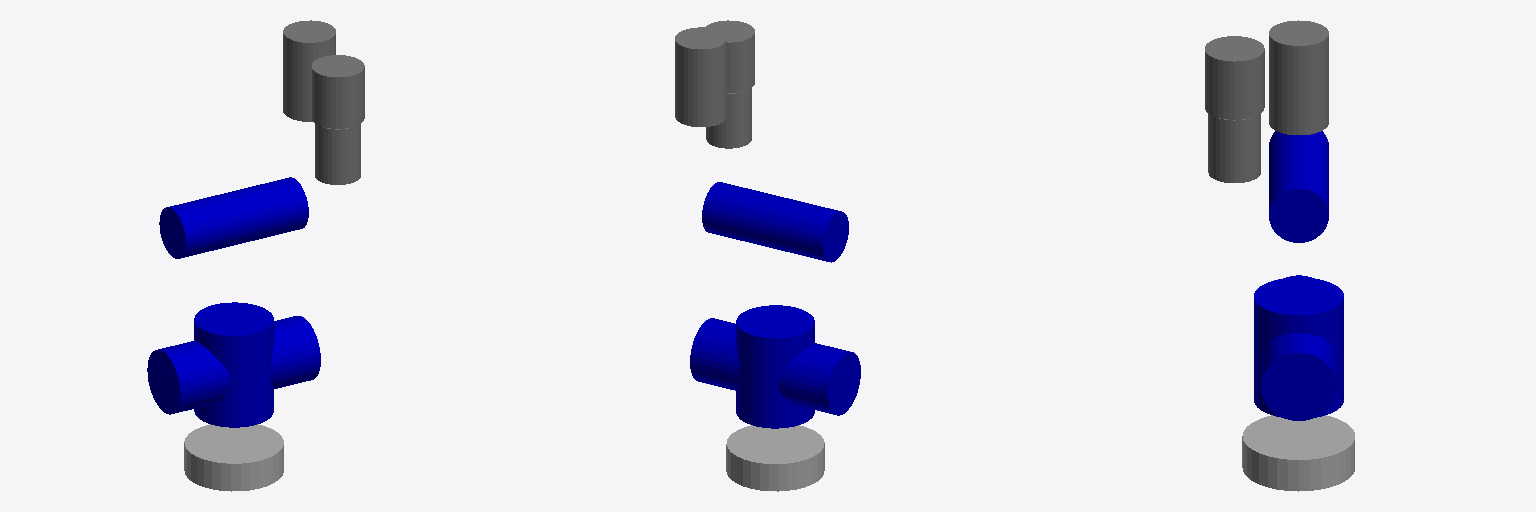
URDF robot description (ur3e):
<?xml version="1.0" ?>
<robot name="ur3e" xmlns:xacro="http://www.ros.org/wiki/xacro">
  
  <!-- Robot base link -->
  <link name="world"/>
  
  <link name="base_link">
    <visual>
      <geometry>
        <cylinder radius="0.075" length="0.046"/>
      </geometry>
      <material name="LightGrey">
        <color rgba="0.7 0.7 0.7 1.0"/>
      </material>
    </visual>
  </link>
  
  <joint name="world_joint" type="fixed">
    <parent link="world"/>
    <child link="base_link"/>
    <origin xyz="0.0 0.0 0.0" rpy="0.0 0.0 0.0"/>
  </joint>

  <!-- UR3e joints and links -->
  <link name="shoulder_link">
    <visual>
      <geometry>
        <cylinder radius="0.06" length="0.15185"/>
      </geometry>
      <material name="Blue">
        <color rgba="0.0 0.0 0.8 1.0"/>
      </material>
    </visual>
  </link>

  <joint name="shoulder_pan_joint" type="revolute">
    <parent link="base_link"/>
    <child link="shoulder_link"/>
    <origin xyz="0.0 0.0 0.15185" rpy="0.0 0.0 0.0"/>
    <axis xyz="0 0 1"/>
    <limit lower="-6.2832" upper="6.2832" effort="150.0" velocity="3.15"/>
  </joint>

  <link name="upper_arm_link">
    <visual>
      <geometry>
        <cylinder radius="0.05" length="0.24355"/>
      </geometry>
      <material name="Blue">
        <color rgba="0.0 0.0 0.8 1.0"/>
      </material>
    </visual>
  </link>

  <joint name="shoulder_lift_joint" type="revolute">
    <parent link="shoulder_link"/>
    <child link="upper_arm_link"/>
    <origin xyz="0.0 0.0 0.0" rpy="0.0 1.570796325 0.0"/>
    <axis xyz="0 1 0"/>
    <limit lower="-6.2832" upper="6.2832" effort="150.0" velocity="3.15"/>
  </joint>

  <link name="forearm_link">
    <visual>
      <geometry>
        <cylinder radius="0.04" length="0.2132"/>
      </geometry>
      <material name="Blue">
        <color rgba="0.0 0.0 0.8 1.0"/>
      </material>
    </visual>
  </link>

  <joint name="elbow_joint" type="revolute">
    <parent link="upper_arm_link"/>
    <child link="forearm_link"/>
    <origin xyz="-0.24355 0.0 0.0" rpy="0.0 0.0 0.0"/>
    <axis xyz="0 1 0"/>
    <limit lower="-3.14159265" upper="3.14159265" effort="150.0" velocity="3.15"/>
  </joint>

  <link name="wrist_1_link">
    <visual>
      <geometry>
        <cylinder radius="0.04" length="0.13105"/>
      </geometry>
      <material name="Grey">
        <color rgba="0.5 0.5 0.5 1.0"/>
      </material>
    </visual>
  </link>

  <joint name="wrist_1_joint" type="revolute">
    <parent link="forearm_link"/>
    <child link="wrist_1_link"/>
    <origin xyz="-0.2132 0.0 0.13105" rpy="0.0 1.570796325 0.0"/>
    <axis xyz="0 1 0"/>
    <limit lower="-6.2832" upper="6.2832" effort="28.0" velocity="3.2"/>
  </joint>

  <link name="wrist_2_link">
    <visual>
      <geometry>
        <cylinder radius="0.04" length="0.08535"/>
      </geometry>
      <material name="Grey">
        <color rgba="0.5 0.5 0.5 1.0"/>
      </material>
    </visual>
  </link>

  <joint name="wrist_2_joint" type="revolute">
    <parent link="wrist_1_link"/>
    <child link="wrist_2_link"/>
    <origin xyz="0.0 -0.08535 0.0" rpy="0.0 0.0 0.0"/>
    <axis xyz="0 0 1"/>
    <limit lower="-6.2832" upper="6.2832" effort="28.0" velocity="3.2"/>
  </joint>

  <link name="wrist_3_link">
    <visual>
      <geometry>
        <cylinder radius="0.035" length="0.0921"/>
      </geometry>
      <material name="Grey">
        <color rgba="0.5 0.5 0.5 1.0"/>
      </material>
    </visual>
  </link>

  <joint name="wrist_3_joint" type="revolute">
    <parent link="wrist_2_link"/>
    <child link="wrist_3_link"/>
    <origin xyz="0.0 0.0 0.0921" rpy="0.0 0.0 0.0"/>
    <axis xyz="0 1 0"/>
    <limit lower="-6.2832" upper="6.2832" effort="28.0" velocity="3.2"/>
  </joint>

  <!-- Tool0 frame (end effector) -->
  <link name="tool0"/>

  <joint name="wrist_3_to_tool0" type="fixed">
    <parent link="wrist_3_link"/>
    <child link="tool0"/>
    <origin xyz="0.0 0.0823 0.0" rpy="0.0 0.0 1.570796325"/>
  </joint>

</robot>

--- Render facts (derived) ---
The picture shows the robot from 3 angles, left to right: view 1: azimuth 30°, elevation 25°; view 2: azimuth 150°, elevation 25°; view 3: azimuth 270°, elevation 25°; orthographic projection.
Robot: ur3e — 9 links, 8 joints (6 revolute, 2 fixed); root link world; default pose: every joint at zero.
Links seen in each view (by area): view 1: forearm_link, shoulder_link, upper_arm_link, base_link, wrist_2_link, wrist_1_link, wrist_3_link; view 2: forearm_link, shoulder_link, upper_arm_link, base_link, wrist_1_link, wrist_2_link, wrist_3_link; view 3: base_link, wrist_1_link, shoulder_link, forearm_link, upper_arm_link, wrist_2_link, wrist_3_link.
Boxes of the visible links, left/top/right/bottom form: forearm_link: left=159, top=177, right=308, bottom=258; shoulder_link: left=194, top=302, right=273, bottom=427; upper_arm_link: left=147, top=316, right=320, bottom=414; base_link: left=184, top=424, right=283, bottom=491; wrist_2_link: left=312, top=55, right=364, bottom=128; wrist_1_link: left=283, top=20, right=335, bottom=121; wrist_3_link: left=315, top=124, right=360, bottom=184; forearm_link: left=702, top=182, right=848, bottom=262; shoulder_link: left=736, top=305, right=814, bottom=428; upper_arm_link: left=690, top=318, right=860, bottom=415; base_link: left=726, top=425, right=824, bottom=491; wrist_1_link: left=675, top=27, right=726, bottom=126; wrist_2_link: left=705, top=20, right=754, bottom=92; wrist_3_link: left=706, top=88, right=751, bottom=148; base_link: left=1242, top=415, right=1354, bottom=491; wrist_1_link: left=1269, top=20, right=1328, bottom=134; shoulder_link: left=1254, top=277, right=1343, bottom=417; forearm_link: left=1269, top=131, right=1328, bottom=242; upper_arm_link: left=1261, top=275, right=1336, bottom=420; wrist_2_link: left=1205, top=36, right=1264, bottom=119; wrist_3_link: left=1208, top=113, right=1260, bottom=182.
Bounding box of the posed robot: 0.2928 × 0.2004 × 0.6971 m (x, y, z).
Geometry: primitives only (box / cylinder / sphere), no mesh files.
